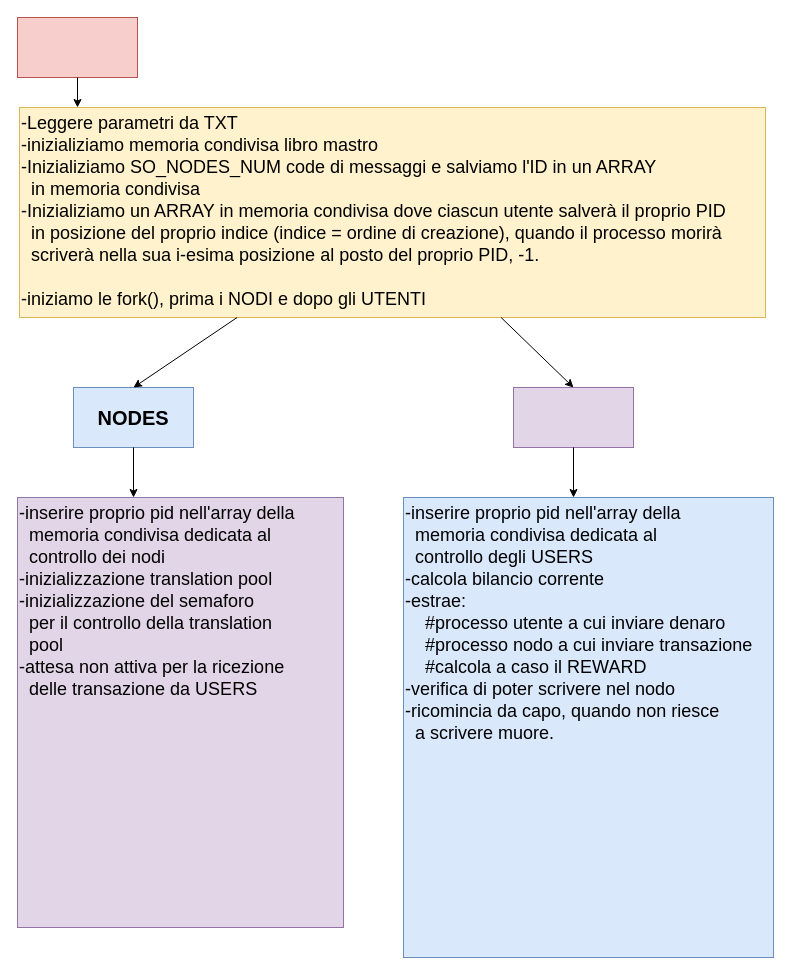
The diagram is 791 pixels wide and 980 high, and some of its shapes have lost their labels. Here are the shapes that lost their labels. From the top down, the centre of each, then its label:
pixel 77 47: MASTER
pixel 573 417: USERS
